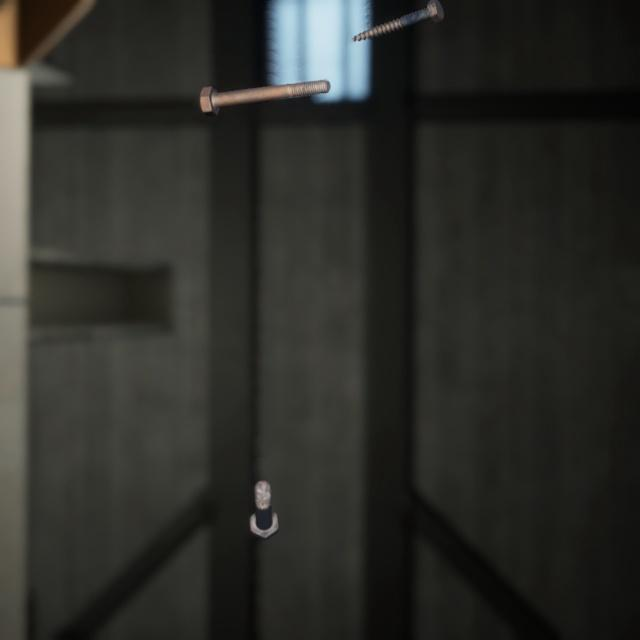bolt: (195, 62, 335, 108), (346, 0, 448, 39), (245, 452, 283, 523)
